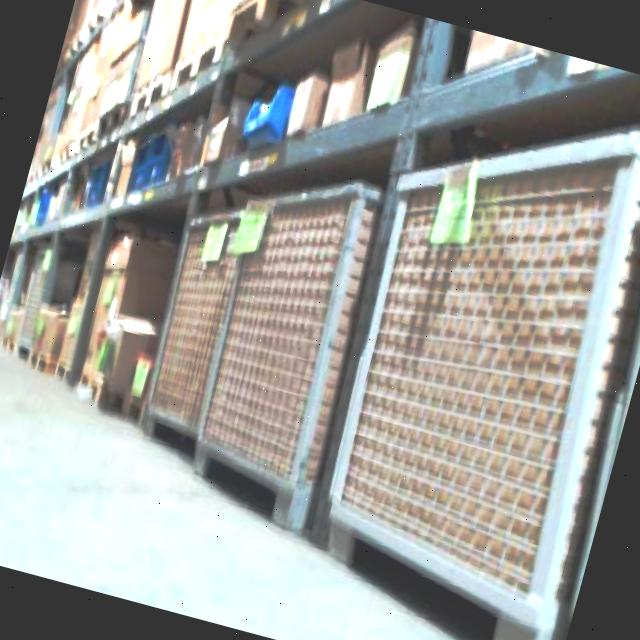ground: (0, 319, 608, 640)
pallet: (273, 62, 640, 640), (115, 137, 398, 534), (535, 249, 640, 640)
